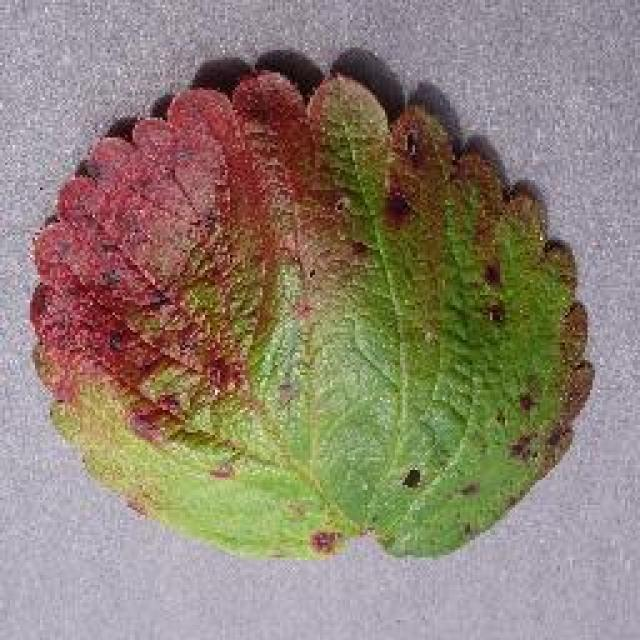Strawberry leaf scorch: (102, 146, 568, 472)
